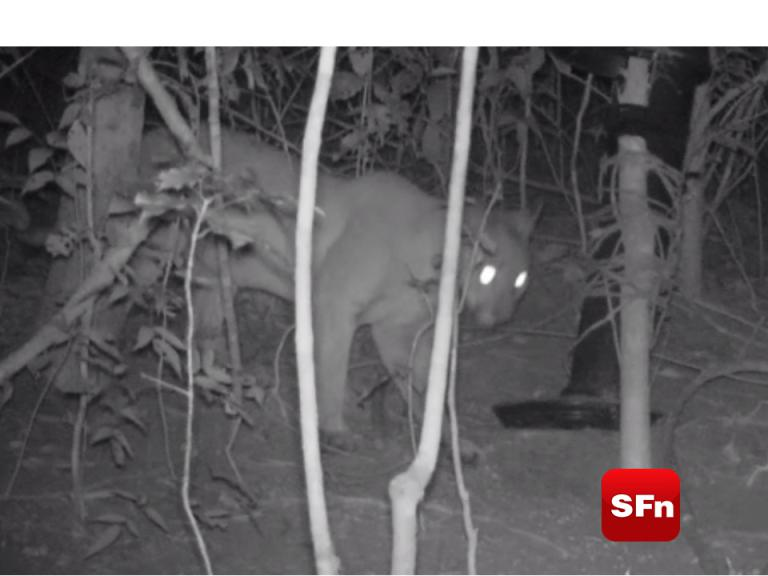OncaParda: (127, 118, 545, 470)
